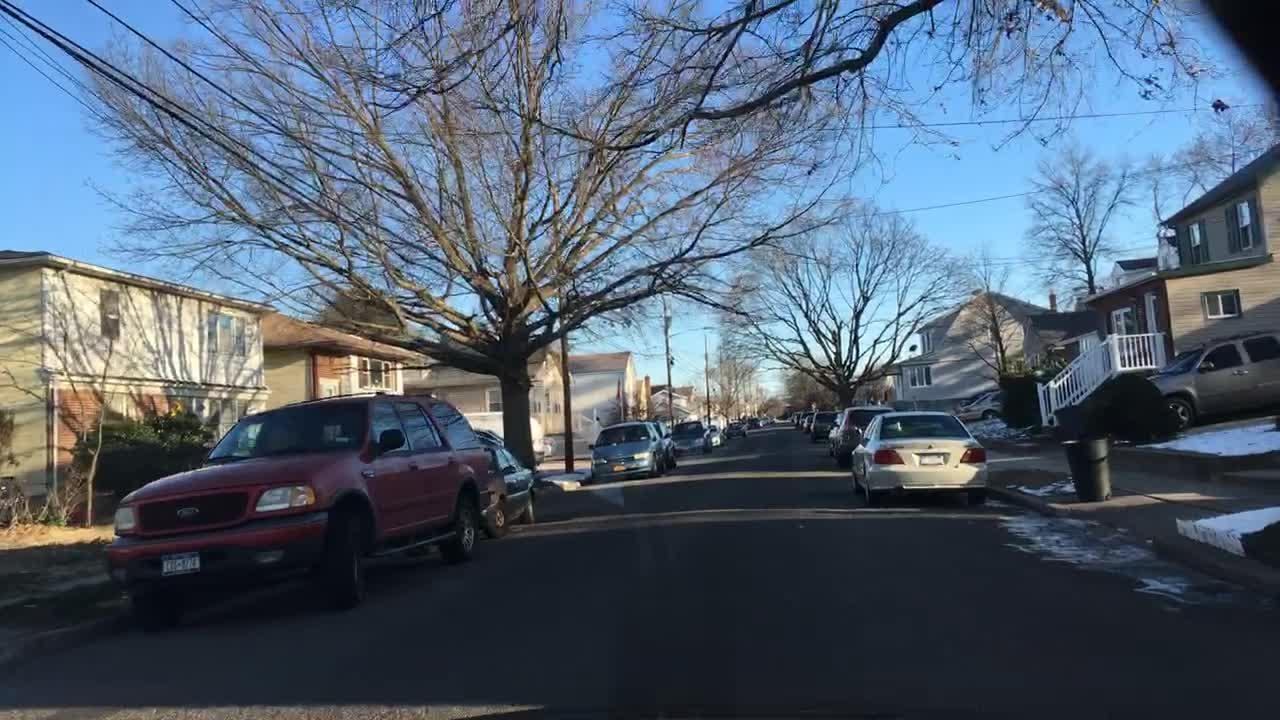ford: (166, 496, 203, 531)
